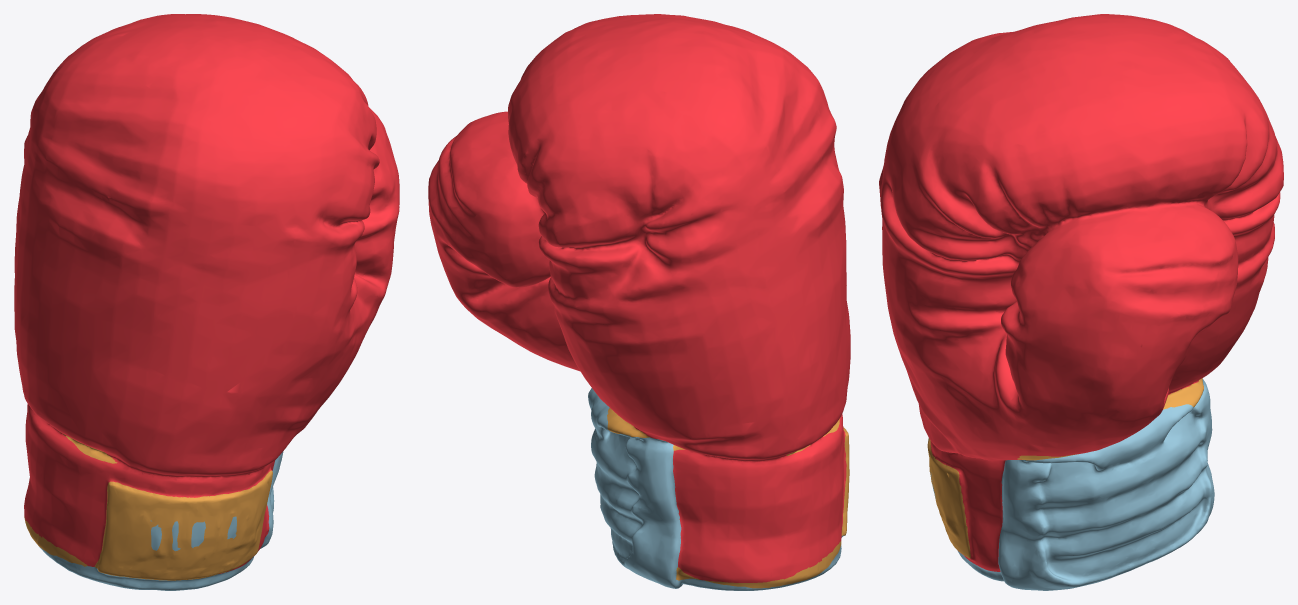
File: Stack 4C - Glove.glb
3 views of the same model, side by side, from view 1: azimuth 30°, elevation 25°; view 2: azimuth 150°, elevation 25°; view 3: azimuth 270°, elevation 25° (orthographic). The views are drawn at different scales.
Parts seen in each view (by area): view 1: Stack 4C - Glove · mesh; view 2: Stack 4C - Glove · mesh; view 3: Stack 4C - Glove · mesh.
Boxes of the visible parts, x1=… form: Stack 4C - Glove · mesh: x1=14, y1=14, x2=399, y2=590; Stack 4C - Glove · mesh: x1=428, y1=14, x2=850, y2=590; Stack 4C - Glove · mesh: x1=879, y1=14, x2=1283, y2=590.
Size of the model in its own units: 0.7549 by 1 by 0.6797.
